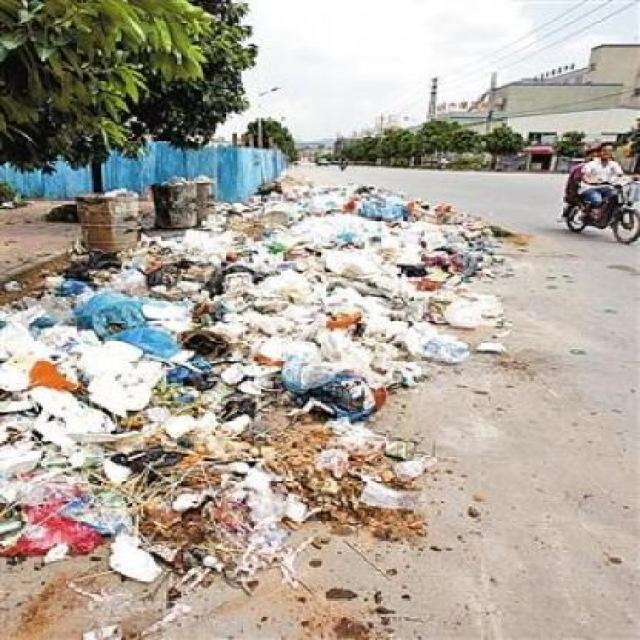garbage: (0, 209, 494, 566), (269, 179, 438, 222)
